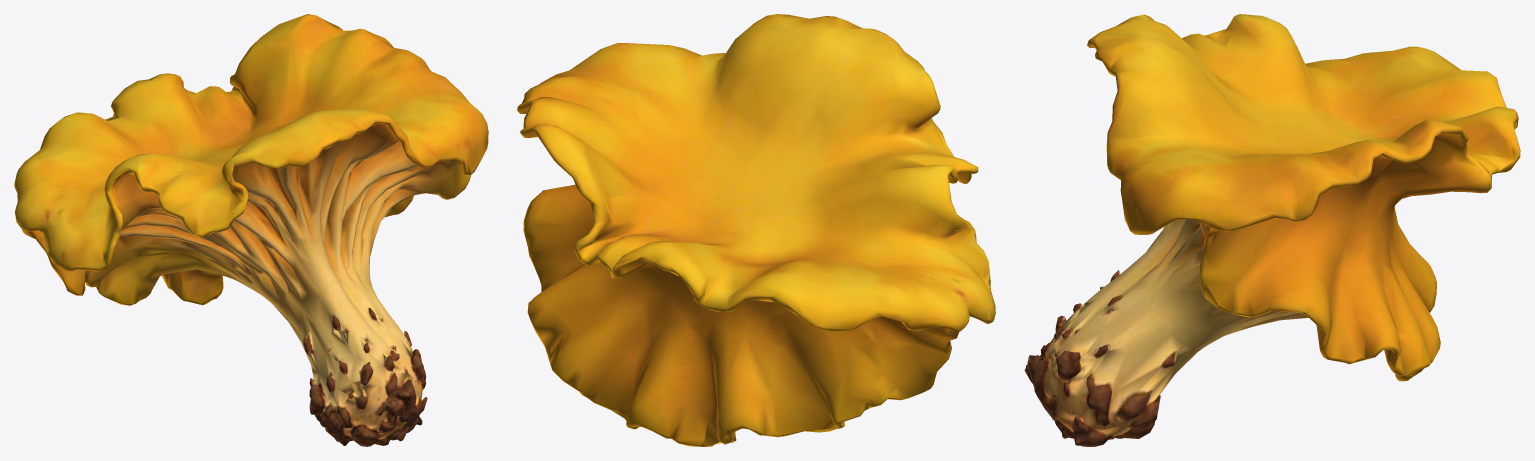
File: chanterelle.glb
The picture shows the model from 3 angles, left to right: view 1: azimuth 30°, elevation 25°; view 2: azimuth 150°, elevation 25°; view 3: azimuth 270°, elevation 25°; orthographic projection. The views are drawn at different scales.
Parts seen in each view (by area): view 1: tripo_node_568dce70-76fe-4c90-9127-b50aad4e4b84; view 2: tripo_node_568dce70-76fe-4c90-9127-b50aad4e4b84; view 3: tripo_node_568dce70-76fe-4c90-9127-b50aad4e4b84.
Boxes of the visible parts, x1,y1,x2,y2 form: tripo_node_568dce70-76fe-4c90-9127-b50aad4e4b84: (14,14,488,446); tripo_node_568dce70-76fe-4c90-9127-b50aad4e4b84: (517,14,995,446); tripo_node_568dce70-76fe-4c90-9127-b50aad4e4b84: (1024,14,1520,446).
Bounding box in the file's own units: 0.9802 × 0.7535 × 0.8945.
Materials: 1 (1 with a texture image).
